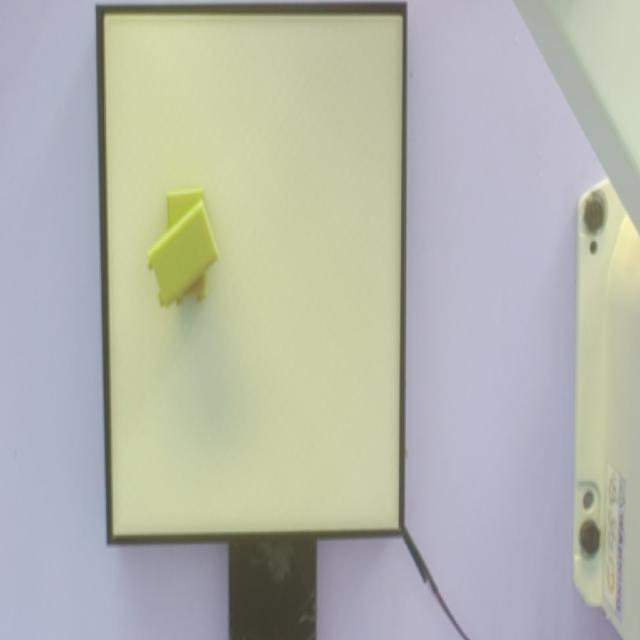bateria: (146, 198, 220, 311)
mesa: (96, 0, 407, 547)
